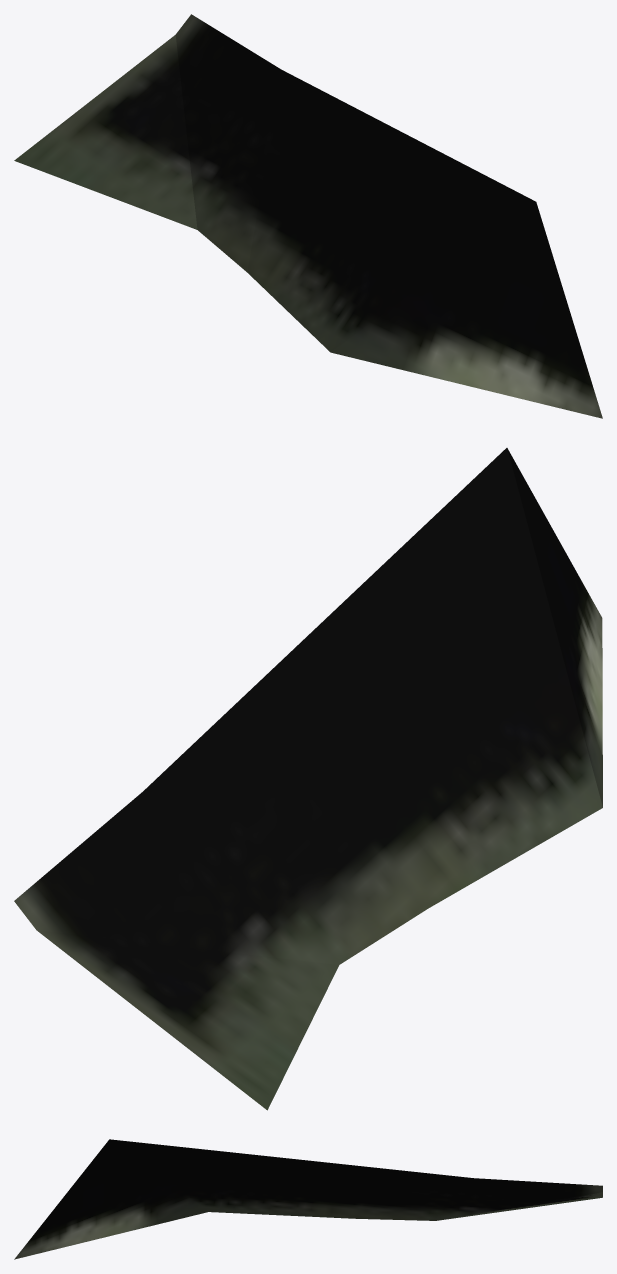
3 renders of one model, top to bottom at view 1: azimuth 30°, elevation 25°; view 2: azimuth 150°, elevation 25°; view 3: azimuth 270°, elevation 25°, orthographic. The views are drawn at different scales.
Bounding box in the file's own units: 0.9578 × 0.8681 × 3.85.
Materials: 1 (1 with a texture image).
